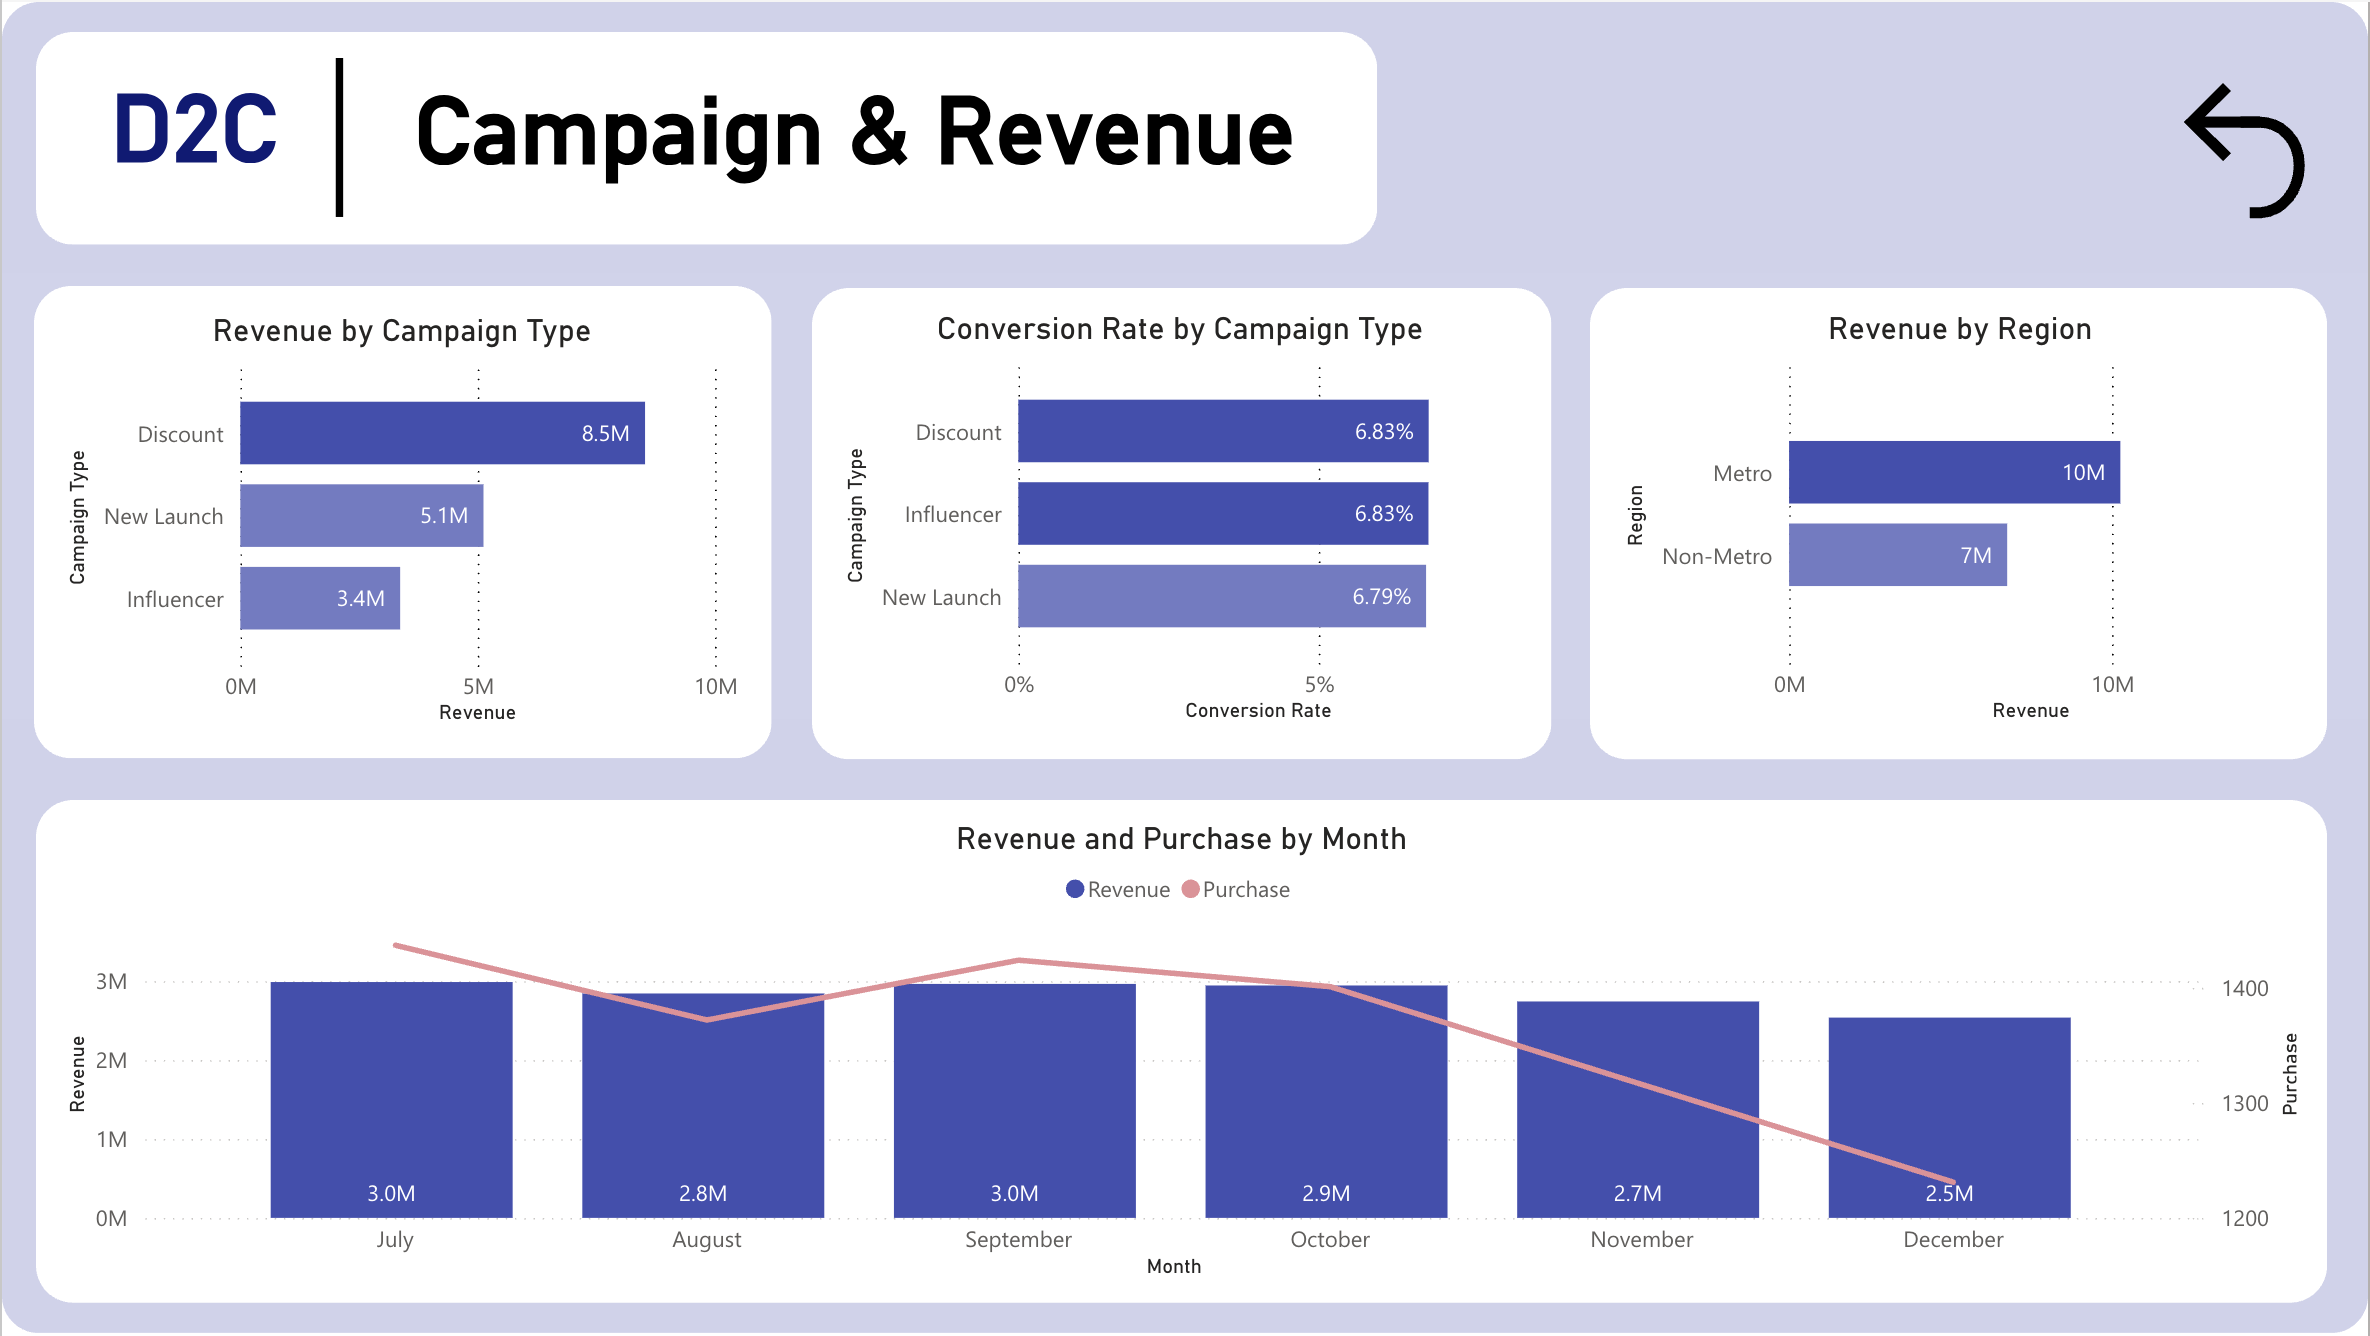

What the dashboard file says about the page in this screenshot:
{"tool":"powerbi","page":{"name":"Campaign & Revenue Analysis","canvas":[1280,720],"ordinal":2},"visuals":[{"type":"shape","box":[0,0,1280,720.1],"z":0},{"type":"shape","box":[18.3,15.7,725.6,115.1],"z":1000},{"type":"textbox","box":[54.1,40.1,128.2,90.1],"z":2000},{"type":"shape","box":[138.2,30,88.1,86.1],"z":3000},{"type":"textbox","box":[218.6,40.7,500.8,90.2],"z":4000},{"type":"actionButton","box":[1169.4,29.3,88,101.6],"z":5000},{"type":"shape","box":[859,154.3,398.8,255],"z":8000},{"type":"shape","box":[438,154.3,400.1,255],"z":9000},{"type":"shape","box":[17.8,153.8,399.1,255.5],"z":10000},{"type":"clusteredBarChart","title":"    Revenue by Campaign Type","fields":{"Category":["Funnel.campaign_type"],"Y":["Funnel.total_revenue"]},"box":[30.5,170.3,372.4,225],"z":11000},{"type":"shape","box":[18.3,431.5,1239.5,272],"z":14000},{"type":"clusteredBarChart","title":"    Conversion Rate by Campaign Type","fields":{"Category":["Funnel.campaign_type"],"Y":["Funnel.overall_conversion_rate%"]},"box":[451.1,168.7,372.6,224.9],"z":17001},{"type":"clusteredBarChart","title":"  Revenue by Region","fields":{"Category":["Funnel.region"],"Y":["Funnel.total_revenue"]},"box":[873.4,168.7,372.6,224.9],"z":17002},{"type":"lineStackedColumnComboChart","fields":{"Category":["Funnel.date.Variation.Date Hierarchy.Month"],"Y":["Funnel.total_revenue"],"Y2":["Funnel.total_purchases"]},"box":[30.1,444.5,1215.9,249.7],"z":17003}]}

Visuals, with their boxes in screenshot pixels (x1, y1, x2, y2), scaled from the page's 1280x720 canvas onto the 2370x1336 screenshot:
shape: crop(0, 0, 2369, 1335)
shape: crop(34, 29, 1377, 243)
textbox: crop(100, 74, 338, 242)
shape: crop(256, 56, 419, 215)
textbox: crop(405, 76, 1332, 243)
actionButton: crop(2165, 54, 2328, 243)
shape: crop(1590, 286, 2329, 759)
shape: crop(811, 286, 1552, 759)
shape: crop(33, 285, 772, 759)
"    Revenue by Campaign Type" clusteredBarChart: crop(56, 316, 746, 734)
shape: crop(34, 801, 2329, 1305)
"    Conversion Rate by Campaign Type" clusteredBarChart: crop(835, 313, 1525, 730)
"  Revenue by Region" clusteredBarChart: crop(1617, 313, 2307, 730)
lineStackedColumnComboChart - Funnel.date.Variation.Date Hierarchy.Month x Funnel.total_revenue: crop(56, 825, 2307, 1288)
